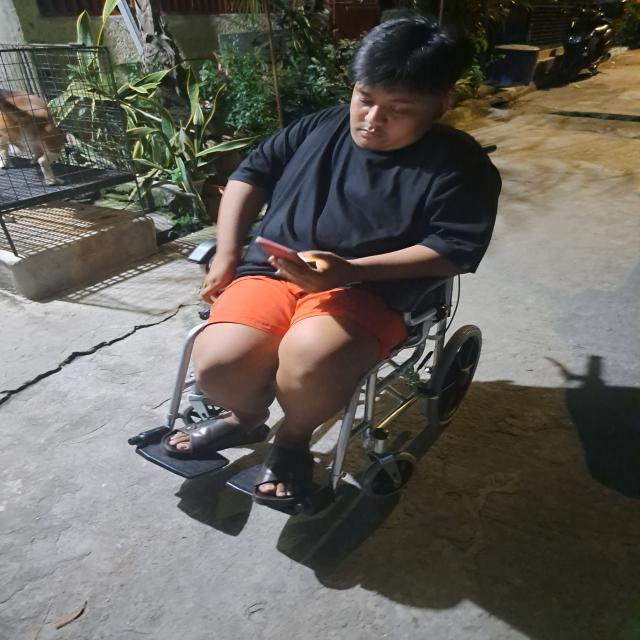wheelchairs: (122, 216, 506, 534)
